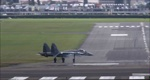maybay_muctieu: (40, 45, 92, 62)
